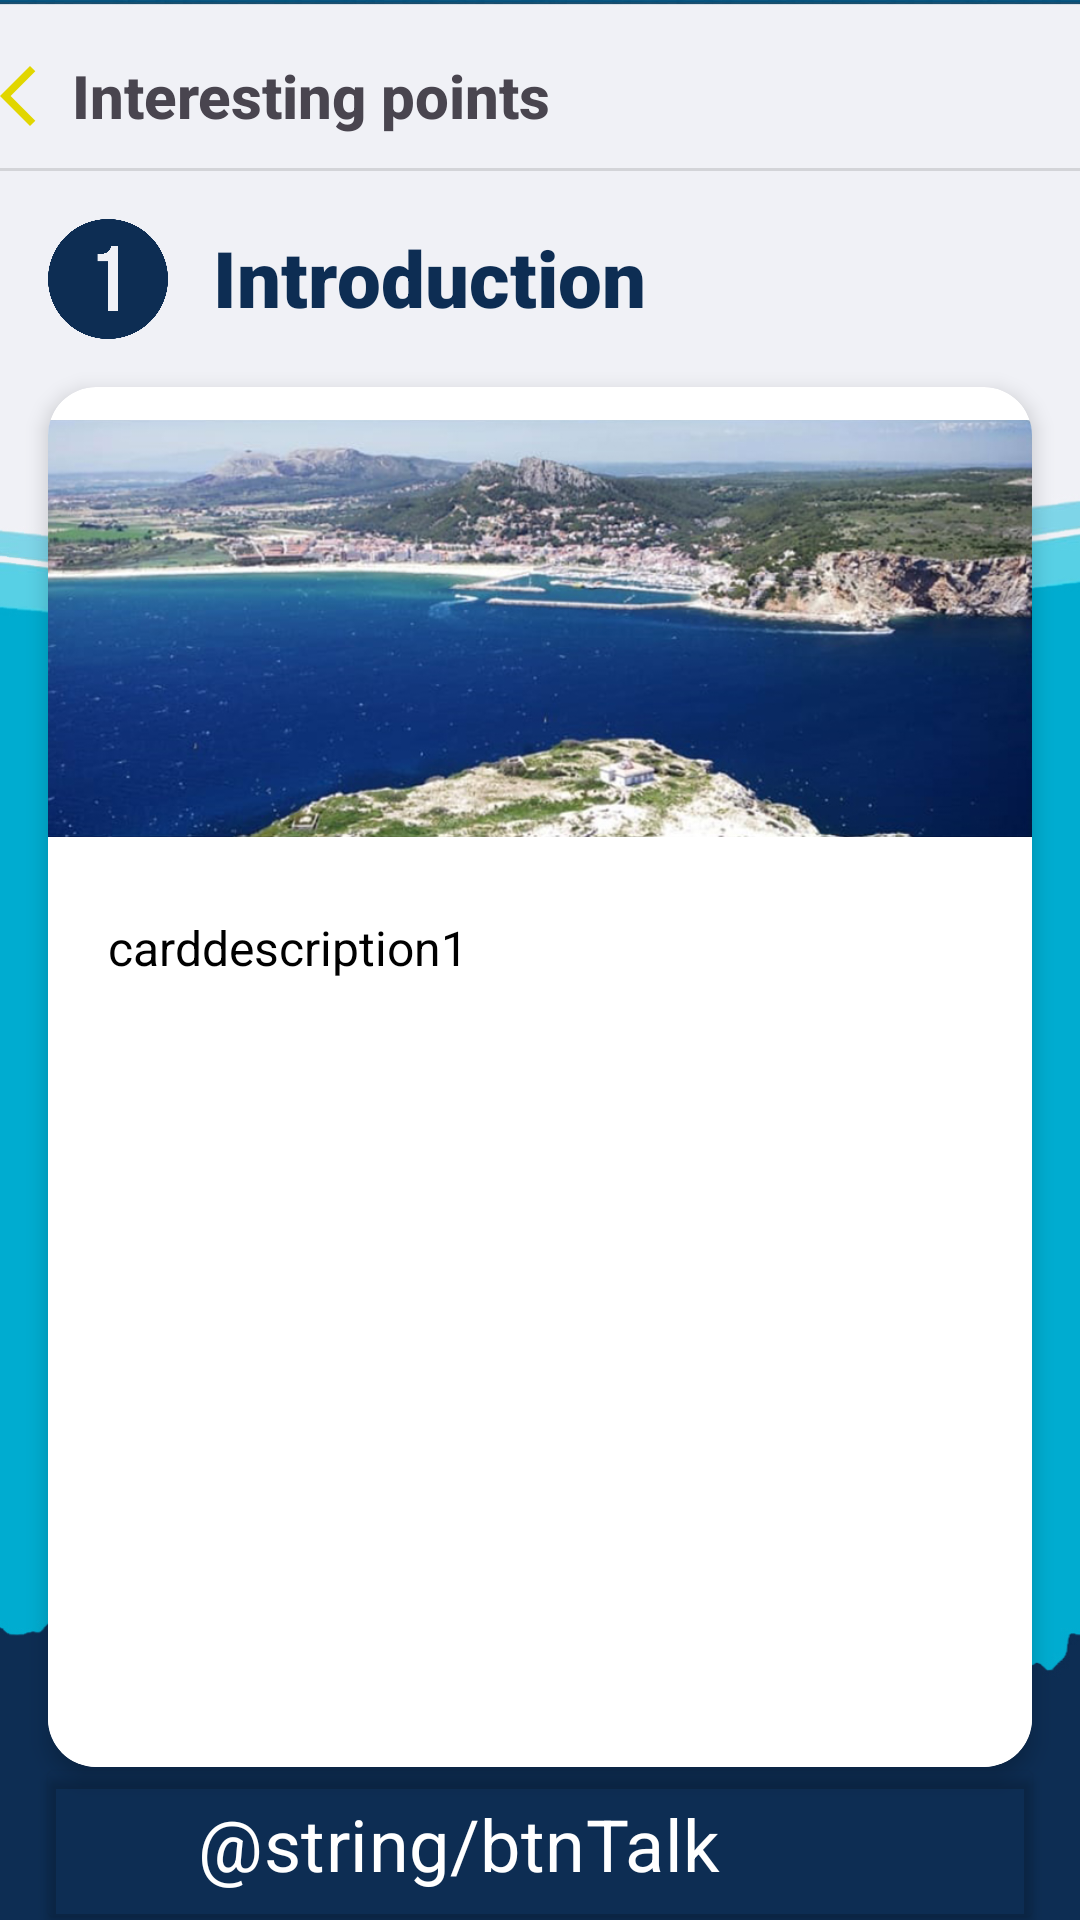

Locate icon controls on the screen. Image size 1080x1920, boxes as (x1, y1, x2, y2).
numero: (48, 219, 168, 339)
